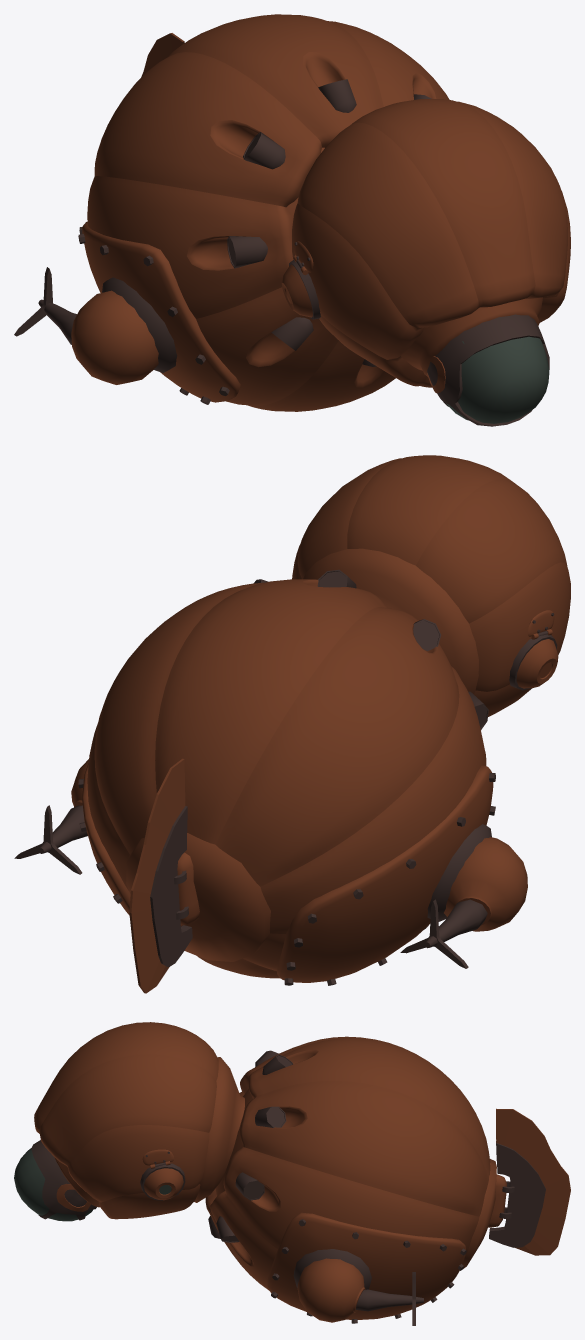
Rendered from ShipMedium 2.fbx.
The picture shows the model from 3 angles, top to bottom: view 1: azimuth 30°, elevation 25°; view 2: azimuth 150°, elevation 25°; view 3: azimuth 270°, elevation 25°; orthographic projection. The views are drawn at different scales.
Parts seen in each view (by area): view 1: ShipMedium; view 2: ShipMedium; view 3: ShipMedium.
Part boxes in pixels (box(x1,y1,x2,y2)): ShipMedium: box(14, 14, 570, 426); ShipMedium: box(14, 455, 570, 993); ShipMedium: box(14, 1022, 570, 1325).
Size of the model in its own units: 42.22 by 34.43 by 63.77.
